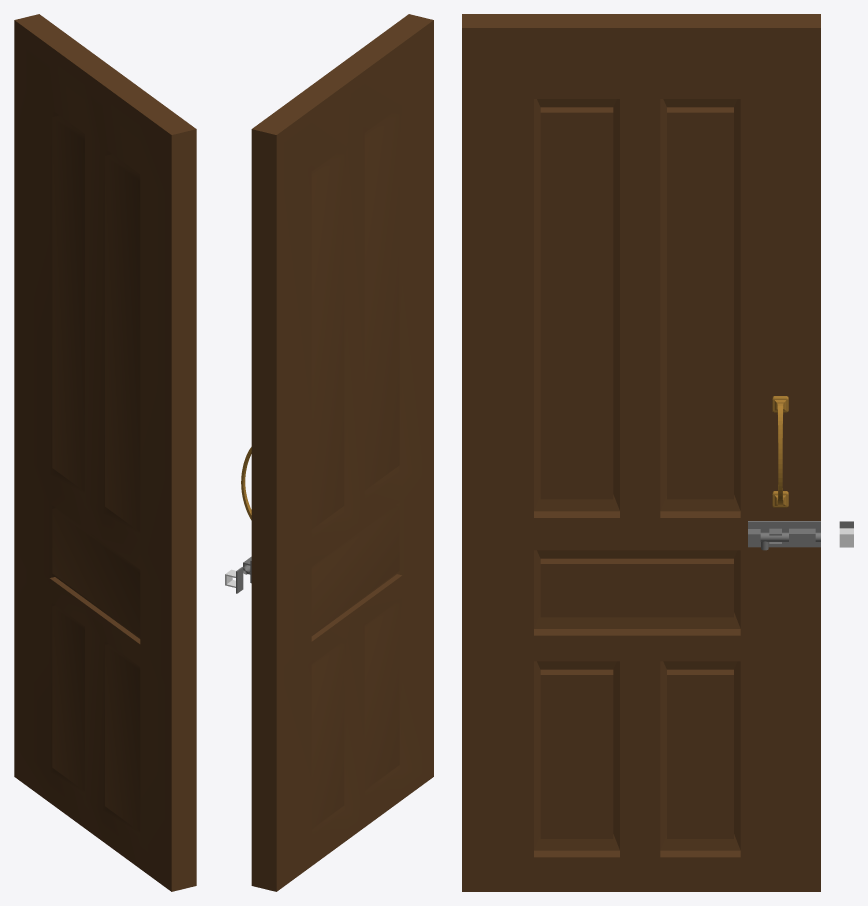
File: Door2.fbx
3 views of the same model, side by side, from view 1: azimuth 30°, elevation 25°; view 2: azimuth 150°, elevation 25°; view 3: azimuth 270°, elevation 25° (orthographic). The views are drawn at different scales.
Parts seen in each view (by area): view 1: Cube.037; view 2: Cube.037; view 3: Cube.037, Cube.039, holder.003.
Part boxes in pixels (x1,y1,x2,y2): Cube.037: (14,14,196,891); Cube.037: (251,14,433,891); Cube.037: (462,14,820,891); Cube.039: (748,521,820,547); holder.003: (772,396,788,507).
Bounding box in the file's own units: 30.29 × 419 × 172.
